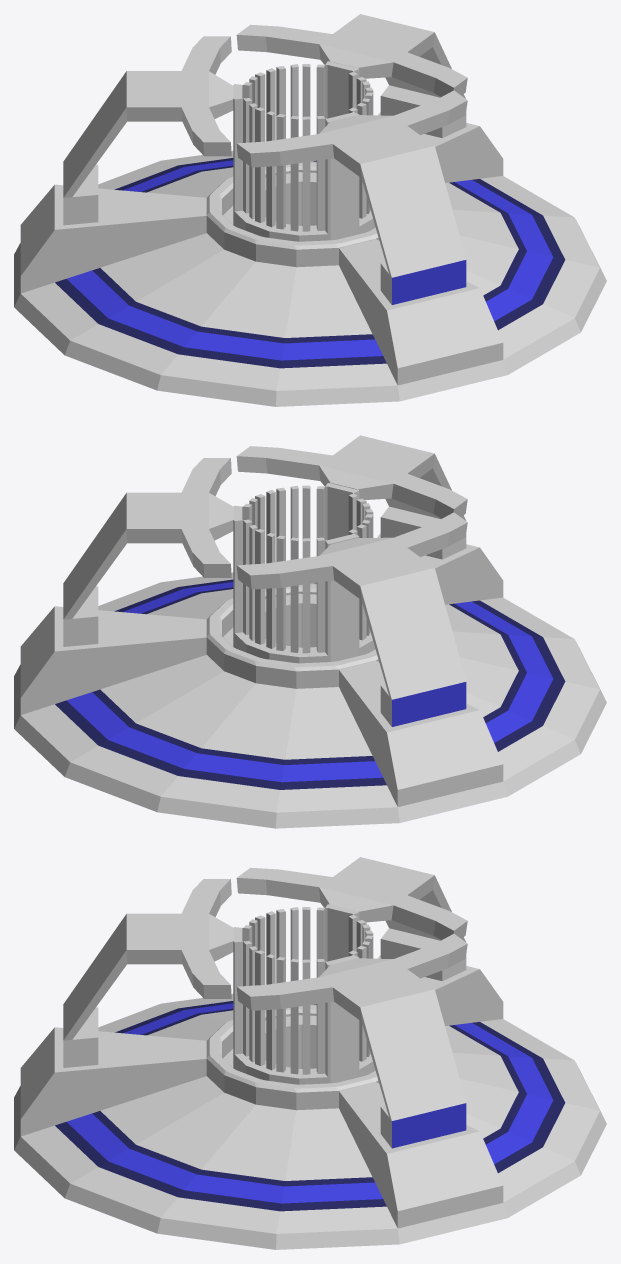
Rendered from extractor.fbx.
The picture shows the model from 3 angles, top to bottom: view 1: azimuth 30°, elevation 25°; view 2: azimuth 150°, elevation 25°; view 3: azimuth 270°, elevation 25°; orthographic projection.
Parts seen in each view (by area): view 1: Cono; view 2: Cono; view 3: Cono.
Part boxes in pixels (left/top/right/bottom): Cono: left=14, top=14, right=606, bottom=406; Cono: left=14, top=435, right=606, bottom=828; Cono: left=14, top=857, right=606, bottom=1249.
Bounding box in the file's own units: 217 × 77.12 × 216.
